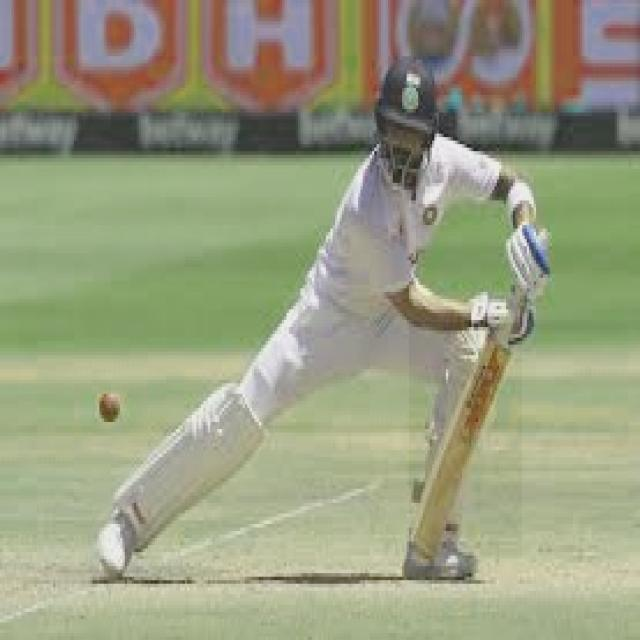bat: (406, 319, 515, 570)
toe: (410, 536, 441, 566)
